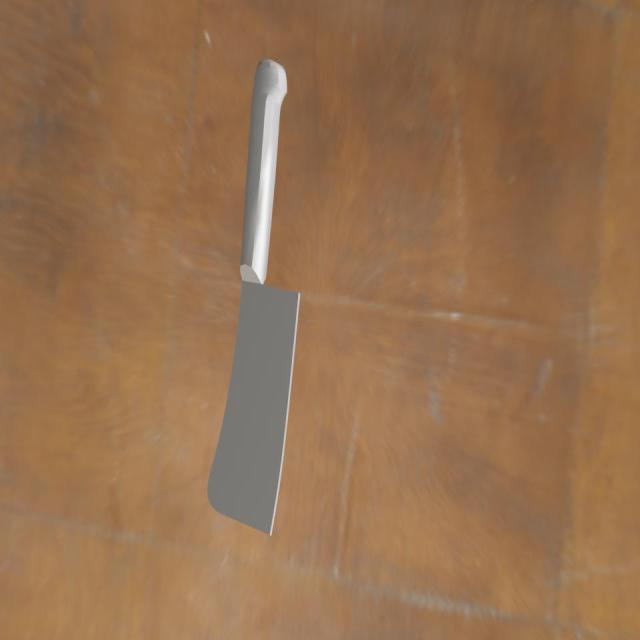knife: (237, 49, 286, 283)
